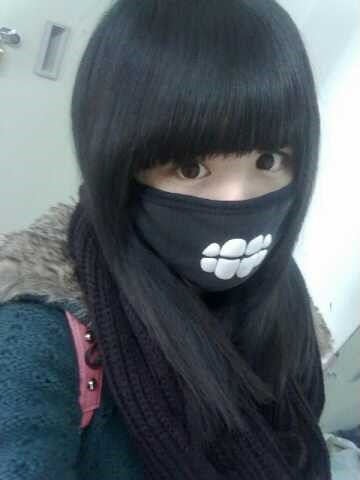face_mask: (146, 83, 297, 298)
